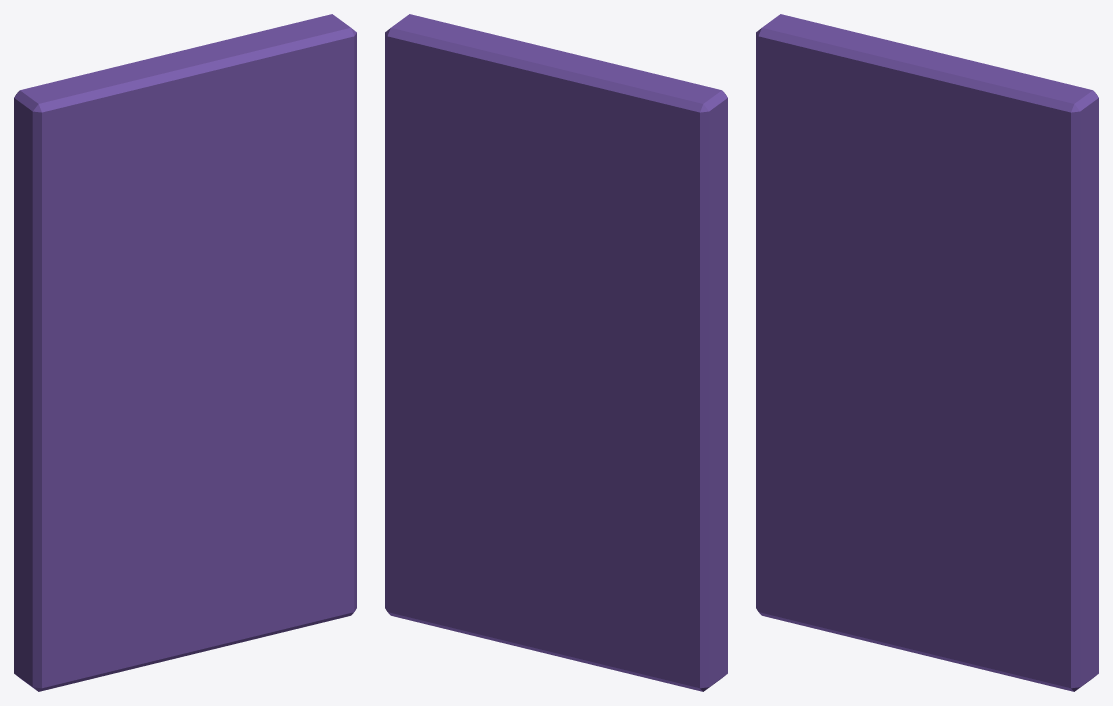
File: PCTower.fbx
3 views of the same model, side by side, from view 1: azimuth 30°, elevation 25°; view 2: azimuth 150°, elevation 25°; view 3: azimuth 330°, elevation 25° (orthographic).
Visible parts, largest first — view 1: pCube3; view 2: pCube3; view 3: pCube3.
Boxes of the visible parts, x1=… form: pCube3: x1=14, y1=14, x2=356, y2=691; pCube3: x1=385, y1=14, x2=727, y2=691; pCube3: x1=756, y1=14, x2=1098, y2=691.
Bounding box in the file's own units: 0.4419 × 0.766 × 0.0603.
